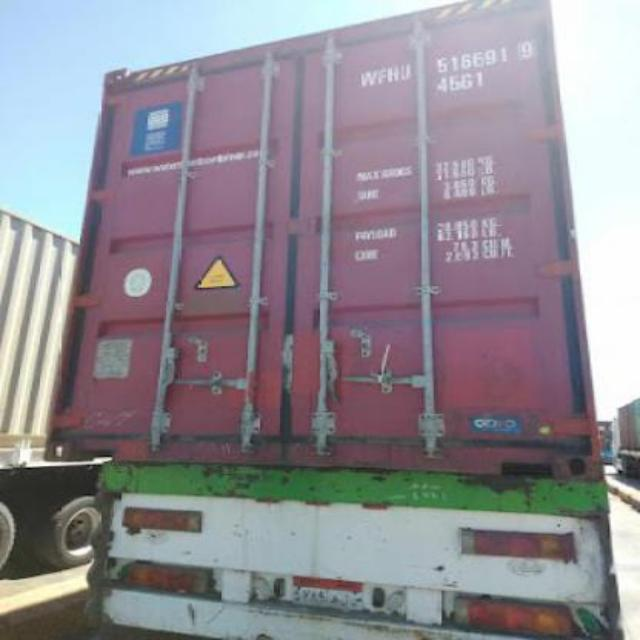1: (498, 46, 510, 64), (450, 54, 460, 74)
5: (434, 57, 450, 75)
6: (460, 51, 472, 71), (472, 49, 484, 69)
9: (520, 40, 536, 61), (484, 49, 498, 65)
F: (376, 66, 386, 88)
H: (388, 64, 400, 86)
U: (398, 64, 414, 82)
W: (357, 70, 378, 86)
